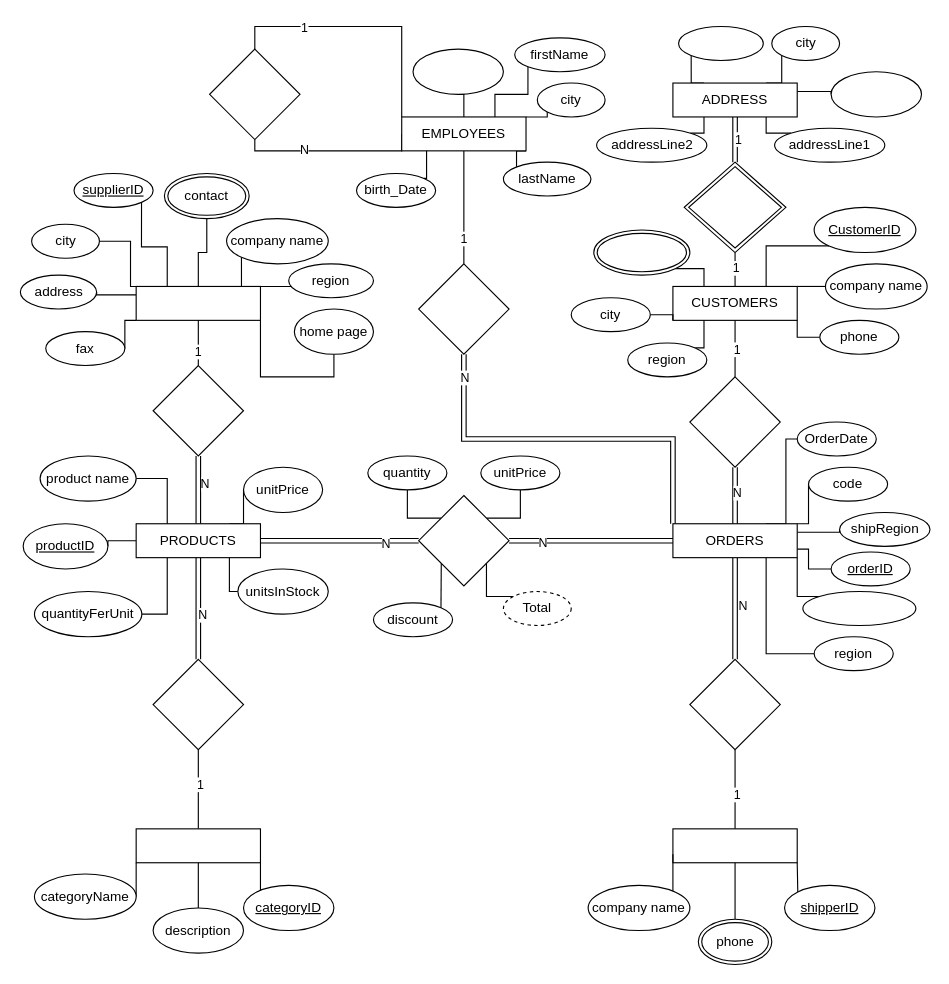
Some shapes in this 949 by 984 pixel diagram are drawn without their labels. The centre of each missing label's shape, as x and y in pixels:
addressID: pixel 876 94
CATEGORIES: pixel 197 845
contactName: pixel 641 252
contains: pixel 198 704
containst: pixel 734 207
Details: pixel 463 540
employeeID: pixel 457 71
Makes: pixel 463 308
participate: pixel 734 704
postalCode: pixel 720 42
report to: pixel 254 94
request: pixel 734 421
requiredDate: pixel 859 607
SHIPPERS: pixel 734 845
supplier: pixel 198 410
SUPPLIERS: pixel 197 302
